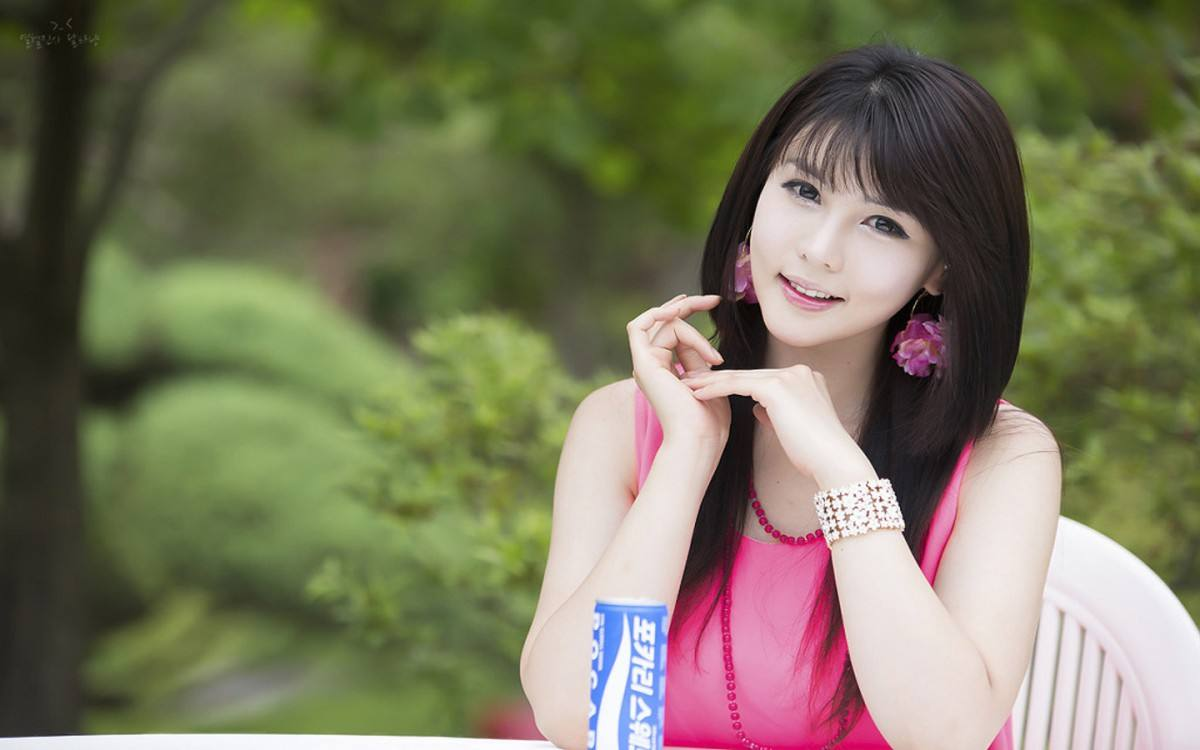person: (543, 85, 1053, 689)
